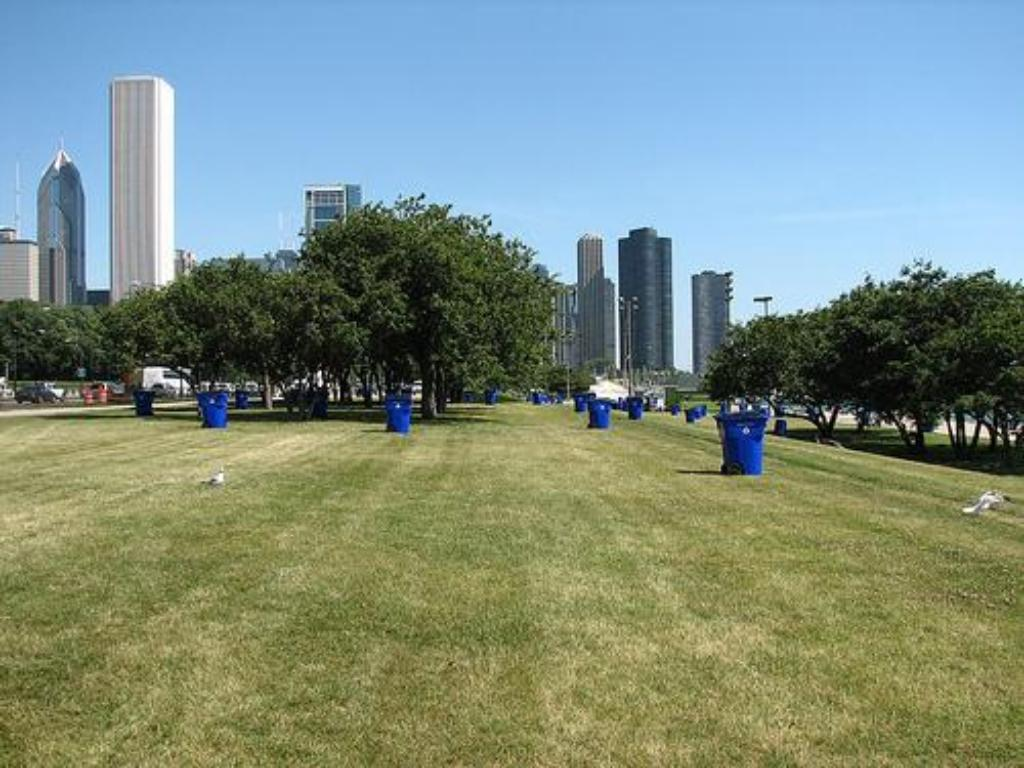dustbin: (711, 408, 783, 486), (383, 381, 424, 446), (198, 380, 236, 437)
